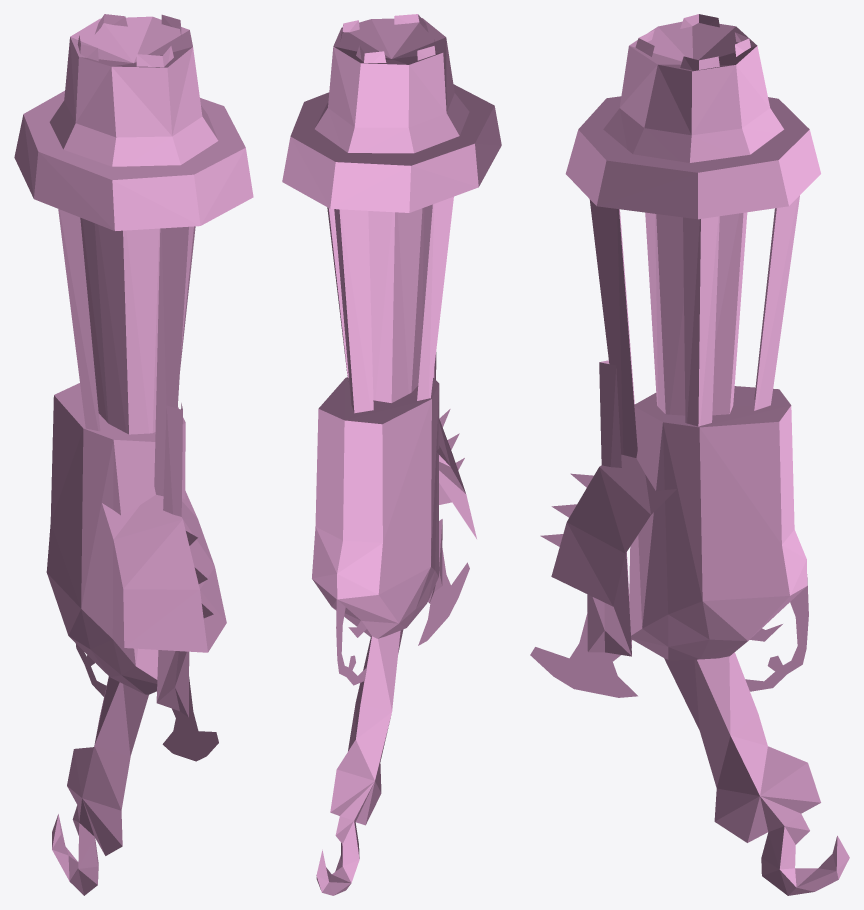
The picture shows the model from 3 angles, left to right: view 1: azimuth 30°, elevation 25°; view 2: azimuth 150°, elevation 25°; view 3: azimuth 270°, elevation 25°; orthographic projection. The views are drawn at different scales.
Parts seen in each view (by area): view 1: DrawCall_1; view 2: DrawCall_1; view 3: DrawCall_1.
Boxes of the visible parts, x1,y1,x2,y2 form: DrawCall_1: [14, 14, 253, 895]; DrawCall_1: [282, 14, 501, 895]; DrawCall_1: [530, 14, 849, 895].
Size of the model in its own units: 19.59 by 86.34 by 29.14.
